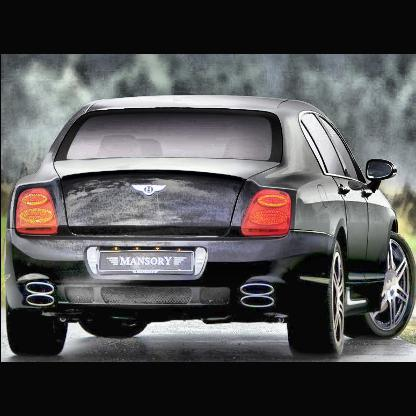Bentley Continental Flying Spur Sedan 2007: (1, 90, 415, 362)
